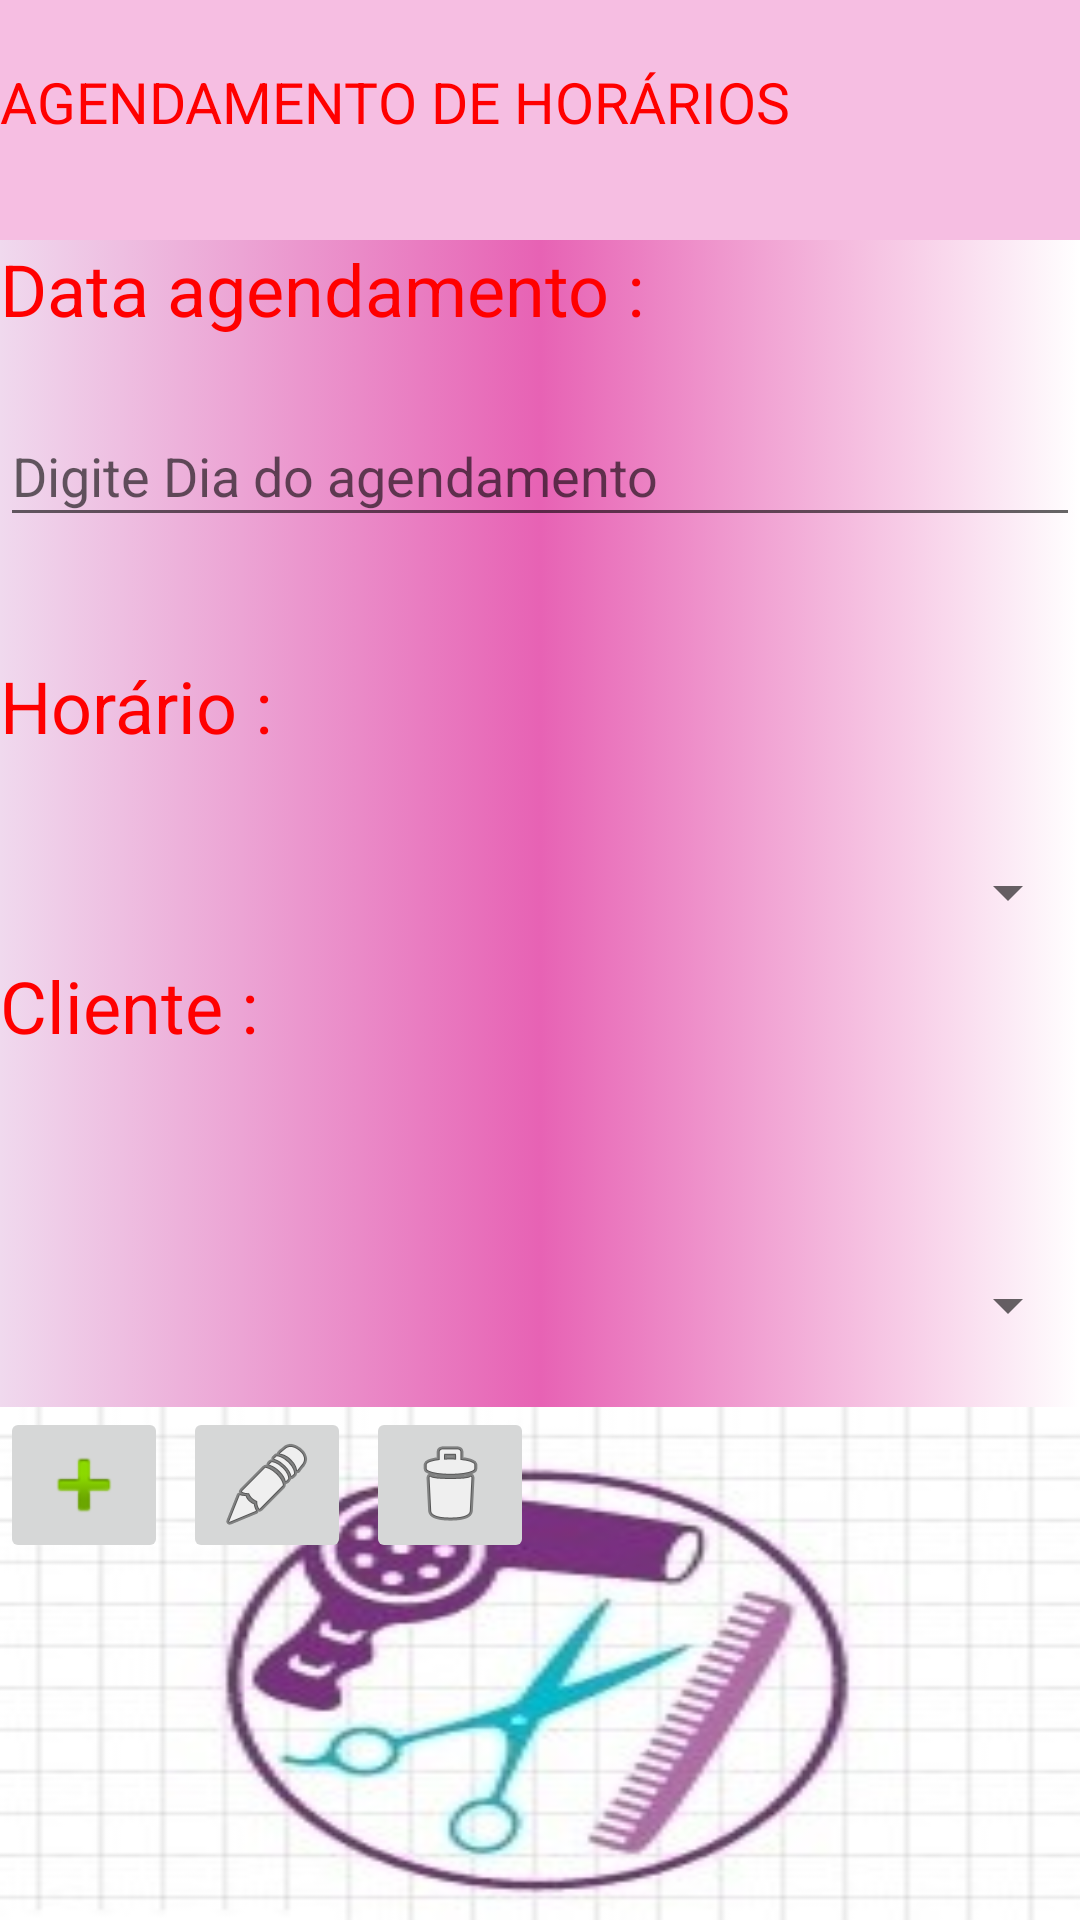

Point at icon controls on the screen. Image size 1080×1920, points as [x,y].
add: [89,1494]
delete: [450,1485]
edit: [267,1485]
